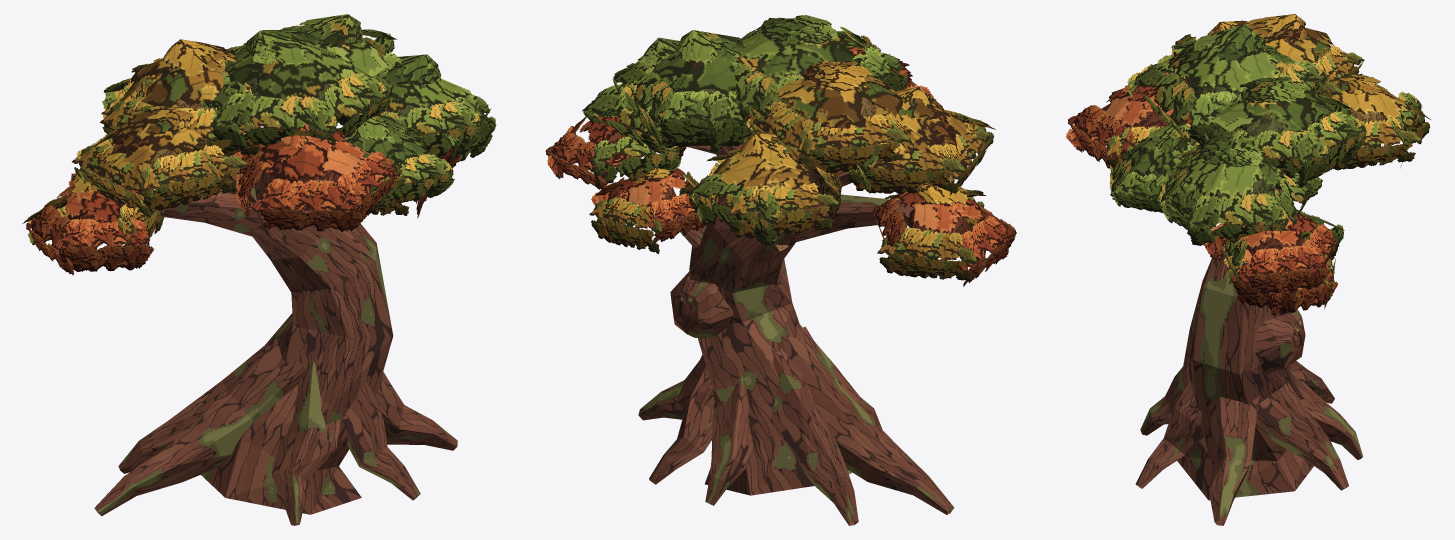
The model's file is SM_TR01_ThickCrooked.fbx.
3 renders of one model, left to right at view 1: azimuth 30°, elevation 25°; view 2: azimuth 150°, elevation 25°; view 3: azimuth 270°, elevation 25°, orthographic. The views are drawn at different scales.
Visible parts, largest first — view 1: TR01_Crown, TR01_Bark; view 2: TR01_Crown, TR01_Bark; view 3: TR01_Crown, TR01_Bark.
Boxes of the visible parts, x1,y1,x2,y2 form: TR01_Crown: (22,14,496,275); TR01_Bark: (94,128,457,525); TR01_Crown: (545,15,1016,333); TR01_Bark: (638,143,954,525); TR01_Crown: (1066,14,1430,356); TR01_Bark: (1135,187,1363,525).
Bounding box in the file's own units: 7.94 × 7.76 × 6.16.
